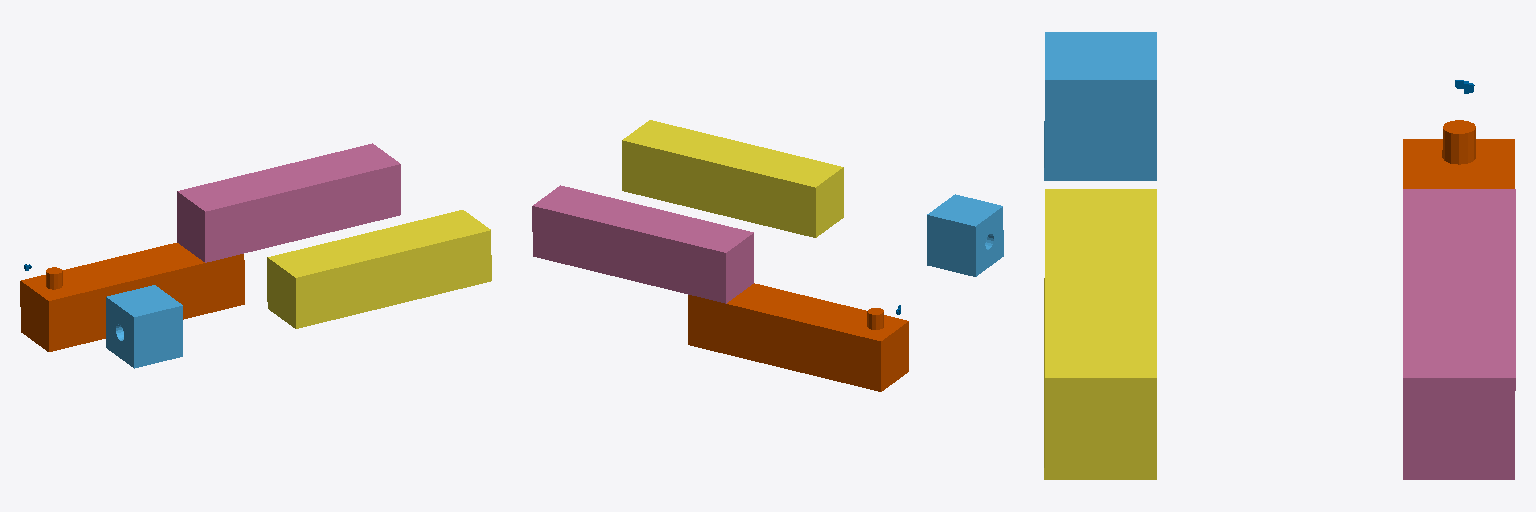
robot.urdf — legrobot:
<?xml version="1.0"?>
<robot name="legrobot">

  <link name="base_link">
    <inertial>
      <origin xyz="-0.24659 0 0" rpy="0 0 0"/>
      <mass value="505.3"/>
      <inertia ixx="180.49" ixy="-1.7051E-16" ixz="3.1238E-33"
               iyy="21.405" iyz="-3.015E-33" izz="181.05"/>
    </inertial>
    <visual>
      <origin xyz="0 0 0" rpy="0 0 0"/>
      <geometry>
        <mesh filename="package://lesson_urdf/meshes/base_link.STL"/>
      </geometry>
    </visual>
    <collision>
      <origin xyz="0 0 0" rpy="0 0 0"/>
      <geometry>
        <mesh filename="package://lesson_urdf/meshes/base_link.STL"/>
      </geometry>
    </collision>
  </link>

  <link name="Link_c_right">
    <inertial>
      <origin xyz="5.3301E-06 0.0038754 0.25388" rpy="0 0 0"/>
      <mass value="119.7"/>
      <inertia ixx="5.025" ixy="0.00011583" ixz="2.4725E-06"
               iyy="5.1092" iyz="0.0017977" izz="5.1092"/>
    </inertial>
    <visual>
      <origin xyz="0 0 0" rpy="0 0 0"/>
      <geometry>
        <mesh filename="package://lesson_urdf/meshes/Link_c_right.STL"/>
      </geometry>
    </visual>
    <collision>
      <origin xyz="0 0 0" rpy="0 0 0"/>
      <geometry>
        <mesh filename="package://lesson_urdf/meshes/Link_c_right.STL"/>
      </geometry>
    </collision>
  </link>

  <joint name="Joint_c_right" type="revolute">
    <origin xyz="0 -0.8 0" rpy="1.5708 0 1.5708"/>
    <parent link="base_link"/>
    <child link="Link_c_right"/>
    <axis xyz="0 0 1"/>
    <limit lower="-1.5708" upper="1.5708" effort="100" velocity="5"/>
    <dynamics damping="0.1" friction="0.1"/>
  </joint>

  <link name="Link_p_right">
    <inertial>
      <origin xyz="0 0.8 0.39728" rpy="0 0 0"/>
      <mass value="505.3"/>
      <inertia ixx="181.05" ixy="-4.2088E-16" ixz="-1.3878E-17"
               iyy="21.405" iyz="4.3426E-16" izz="180.49"/>
    </inertial>
    <visual>
      <origin xyz="0 0 0" rpy="0 0 0"/>
      <geometry>
        <mesh filename="package://lesson_urdf/meshes/Link_p_right.STL"/>
      </geometry>
    </visual>
    <collision>
      <origin xyz="0 0 0" rpy="0 0 0"/>
      <geometry>
        <mesh filename="package://lesson_urdf/meshes/Link_p_right.STL"/>
      </geometry>
    </collision>
  </link>

  <joint name="Joint_p_right" type="revolute">
    <origin xyz="-0.00013659 -0.099312 0.25" rpy="1.5708 0 -0.0013754"/>
    <parent link="Link_c_right"/>
    <child link="Link_p_right"/>
    <axis xyz="0 0 1"/>
    <limit lower="-1.5708" upper="1.5708" effort="100" velocity="5"/>
    <dynamics damping="0.1" friction="0.1"/>
  </joint>

  <link name="Link_r_right">
    <inertial>
      <origin xyz="-2.2204E-16 -0.80426 0.10025" rpy="0 0 0"/>
      <mass value="497.35"/>
      <inertia ixx="175.29" ixy="1.5666E-15" ixz="2.0817E-16"
               iyy="20.743" iyz="-0.37308" izz="175.37"/>
    </inertial>
    <visual>
      <origin xyz="0 0 0" rpy="0 0 0"/>
      <geometry>
        <mesh filename="package://lesson_urdf/meshes/Link_r_right.STL"/>
      </geometry>
    </visual>
    <collision>
      <origin xyz="0 0 0" rpy="0 0 0"/>
      <geometry>
        <mesh filename="package://lesson_urdf/meshes/Link_r_right.STL"/>
      </geometry>
    </collision>
  </link>

  <joint name="Joint_r_right" type="revolute">
    <origin xyz="0 1.6 0" rpy="3.1416 0 0"/>
    <parent link="Link_p_right"/>
    <child link="Link_r_right"/>
    <axis xyz="0 0 1"/>
    <limit lower="-1.5708" upper="1.5708" effort="100" velocity="5"/>
    <dynamics damping="0.1" friction="0.1"/>
  </joint>

  <link name="Link_c_left">
    <inertial>
      <origin xyz="5.3301E-06 0.0038754 0.25388" rpy="0 0 0"/>
      <mass value="119.7"/>
      <inertia ixx="5.025" ixy="0.00011583" ixz="2.4725E-06"
               iyy="5.1092" iyz="0.0017977" izz="5.1092"/>
    </inertial>
    <visual>
      <origin xyz="0 0 0" rpy="0 0 0"/>
      <geometry>
        <mesh filename="package://lesson_urdf/meshes/Link_c_left.STL"/>
      </geometry>
    </visual>
    <collision>
      <origin xyz="0 0 0" rpy="0 0 0"/>
      <geometry>
        <mesh filename="package://lesson_urdf/meshes/Link_c_left.STL"/>
      </geometry>
    </collision>
  </link>

  <joint name="Joint_c_left" type="revolute">
    <origin xyz="0 0.8 0" rpy="1.5708 0 1.5708"/>
    <parent link="base_link"/>
    <child link="Link_c_left"/>
    <axis xyz="0 0 1"/>
    <limit lower="-1.5708" upper="1.5708" effort="100" velocity="5"/>
    <dynamics damping="0.1" friction="0.1"/>
  </joint>

  <link name="Link_p_left">
    <inertial>
      <origin xyz="0 0.8 0.39728" rpy="0 0 0"/>
      <mass value="505.3"/>
      <inertia ixx="181.05" ixy="-4.4218E-15" ixz="-2.498E-16"
               iyy="21.405" iyz="-1.0268E-14" izz="180.49"/>
    </inertial>
    <visual>
      <origin xyz="0 0 0" rpy="0 0 0"/>
      <geometry>
        <mesh filename="package://lesson_urdf/meshes/Link_p_left.STL"/>
      </geometry>
    </visual>
    <collision>
      <origin xyz="0 0 0" rpy="0 0 0"/>
      <geometry>
        <mesh filename="package://lesson_urdf/meshes/Link_p_left.STL"/>
      </geometry>
    </collision>
  </link>

  <joint name="Joint_p_left" type="revolute">
    <origin xyz="-0.00013659 -0.099312 0.25" rpy="1.5708 0 -0.0013754"/>
    <parent link="Link_c_left"/>
    <child link="Link_p_left"/>
    <axis xyz="0 0 1"/>
    <limit lower="-1.5708" upper="1.5708" effort="100" velocity="5"/>
    <dynamics damping="0.1" friction="0.1"/>
  </joint>

  <link name="Link_r_left">
    <inertial>
      <origin xyz="0 -0.80426 0.10025" rpy="0 0 0"/>
      <mass value="497.35"/>
      <inertia ixx="175.29" ixy="-2.717E-16" ixz="2.0123E-15"
               iyy="20.743" iyz="-0.37308" izz="175.37"/>
    </inertial>
    <visual>
      <origin xyz="0 0 0" rpy="0 0 0"/>
      <geometry>
        <mesh filename="package://lesson_urdf/meshes/Link_r_left.STL"/>
      </geometry>
    </visual>
    <collision>
      <origin xyz="0 0 0" rpy="0 0 0"/>
      <geometry>
        <mesh filename="package://lesson_urdf/meshes/Link_r_left.STL"/>
      </geometry>
    </collision>
  </link>

  <joint name="Joint_r_left" type="revolute">
    <origin xyz="0 1.6 0" rpy="-3.1416 0 0"/>
    <parent link="Link_p_left"/>
    <child link="Link_r_left"/>
    <axis xyz="0 0 1"/>
    <limit lower="-1.5708" upper="1.5708" effort="100" velocity="5"/>
    <dynamics damping="0.1" friction="0.1"/>
  </joint>

</robot>

--- Facts derived from the render (not from the file) ---
Views: 3 orthographic renders of the robot side by side, from view 1: azimuth 30°, elevation 25°; view 2: azimuth 150°, elevation 25°; view 3: azimuth 270°, elevation 25°.
Robot: legrobot — 7 links, 6 joints (6 revolute); root link base_link; default pose: all joints at 0.
Visible links, largest first — view 1: Link_r_right, Link_r_left, Link_p_left, Link_c_right; view 2: Link_r_right, Link_r_left, Link_p_left, Link_c_right; view 3: Link_r_right, Link_r_left, Link_c_right, Link_p_left.
Boxes of the visible links, left/top/right/bottom form: Link_r_right: left=267, top=210, right=491, bottom=328; Link_r_left: left=177, top=143, right=400, bottom=262; Link_p_left: left=20, top=243, right=244, bottom=351; Link_c_right: left=106, top=285, right=182, bottom=368; Link_r_right: left=622, top=120, right=843, bottom=237; Link_r_left: left=532, top=185, right=753, bottom=303; Link_p_left: left=688, top=283, right=908, bottom=391; Link_c_right: left=927, top=194, right=1003, bottom=276; Link_r_right: left=1044, top=189, right=1156, bottom=479; Link_r_left: left=1403, top=189, right=1515, bottom=479; Link_c_right: left=1044, top=32, right=1156, bottom=180; Link_p_left: left=1403, top=120, right=1514, bottom=188.
Size in the robot's own frame: 3.67 by 2.1 by 1 metres.
6 mesh visuals loaded from 7 distinct referenced files (6 binary STL); not drawn: 1 (reference not matched to a file when rendering).
